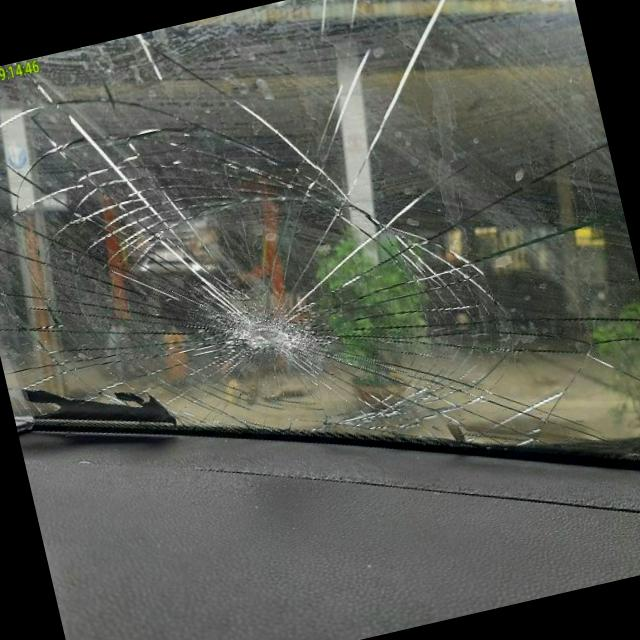Fissure: (0, 36, 175, 288), (0, 269, 195, 407), (150, 90, 299, 234), (169, 358, 266, 441), (203, 287, 289, 361)
